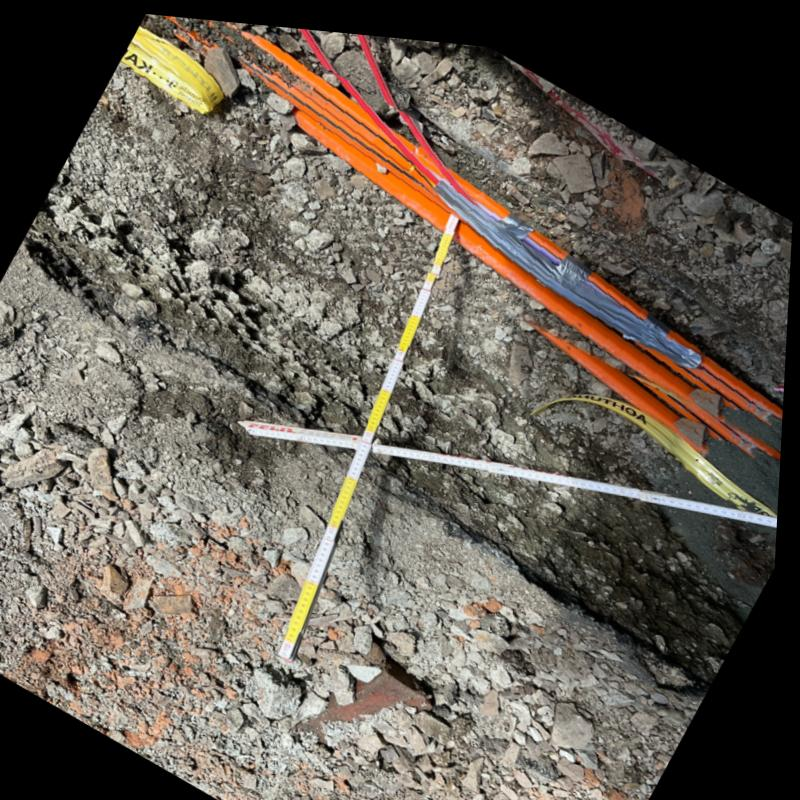Orang-Speednetrohrchen: (199, 15, 786, 416)
